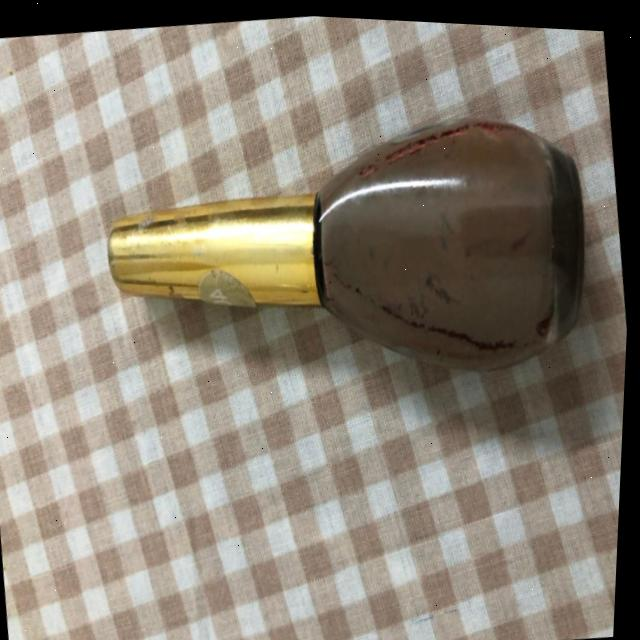nail polish: (51, 64, 619, 440)
